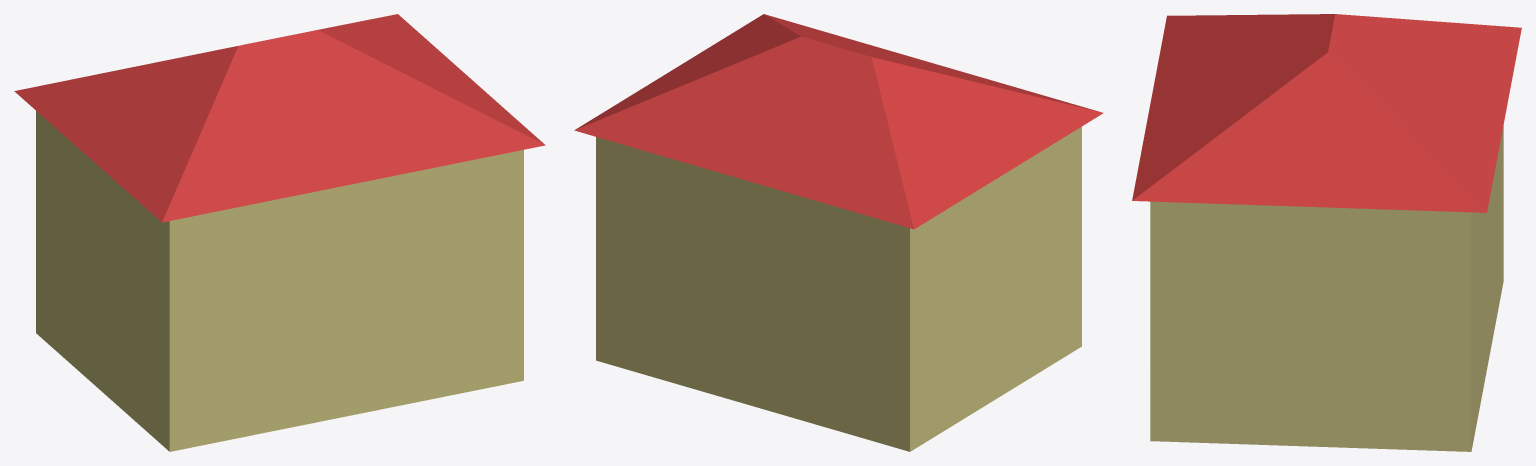
The picture shows the model from 3 angles, left to right: view 1: azimuth 30°, elevation 25°; view 2: azimuth 150°, elevation 25°; view 3: azimuth 270°, elevation 25°; orthographic projection. The views are drawn at different scales.
Bounding box in the file's own units: 13.79 × 11.52 × 10.7.
